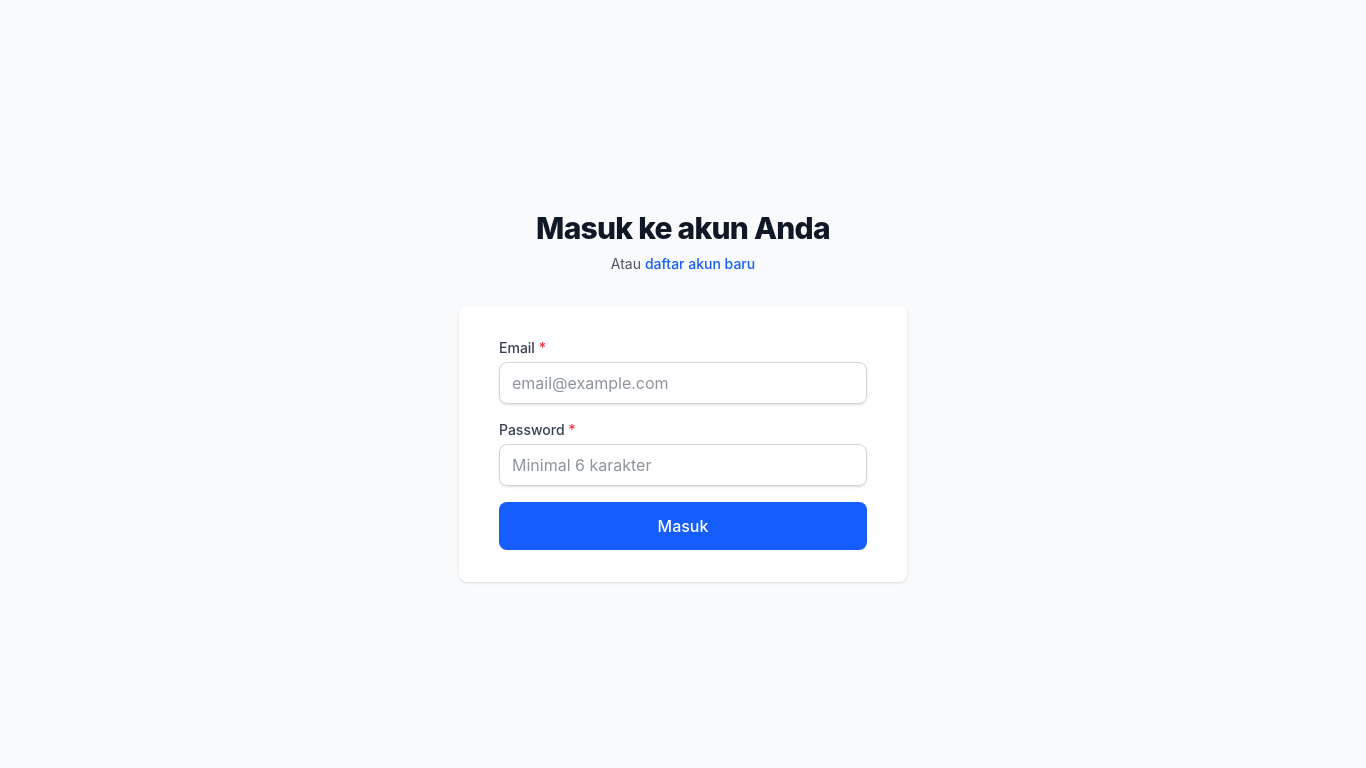
Test: Login Flow › should successfully login with valid credentials
Note: Isi form
Step 1. Type "test@test.com" into the field named "email" → (683, 383), box [499,362,867,404]
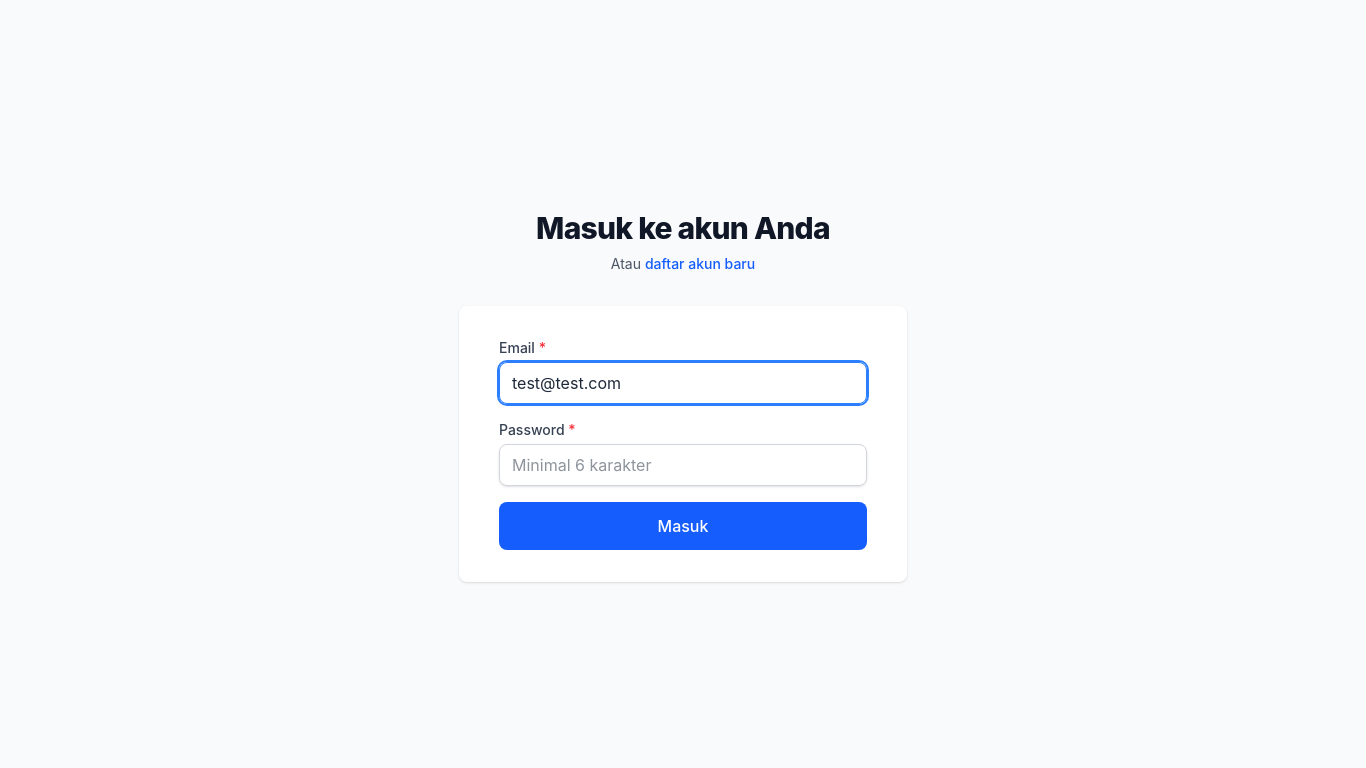
Step 2. Type "password123" into the password field named "password" → (683, 465), box [499,444,867,486]
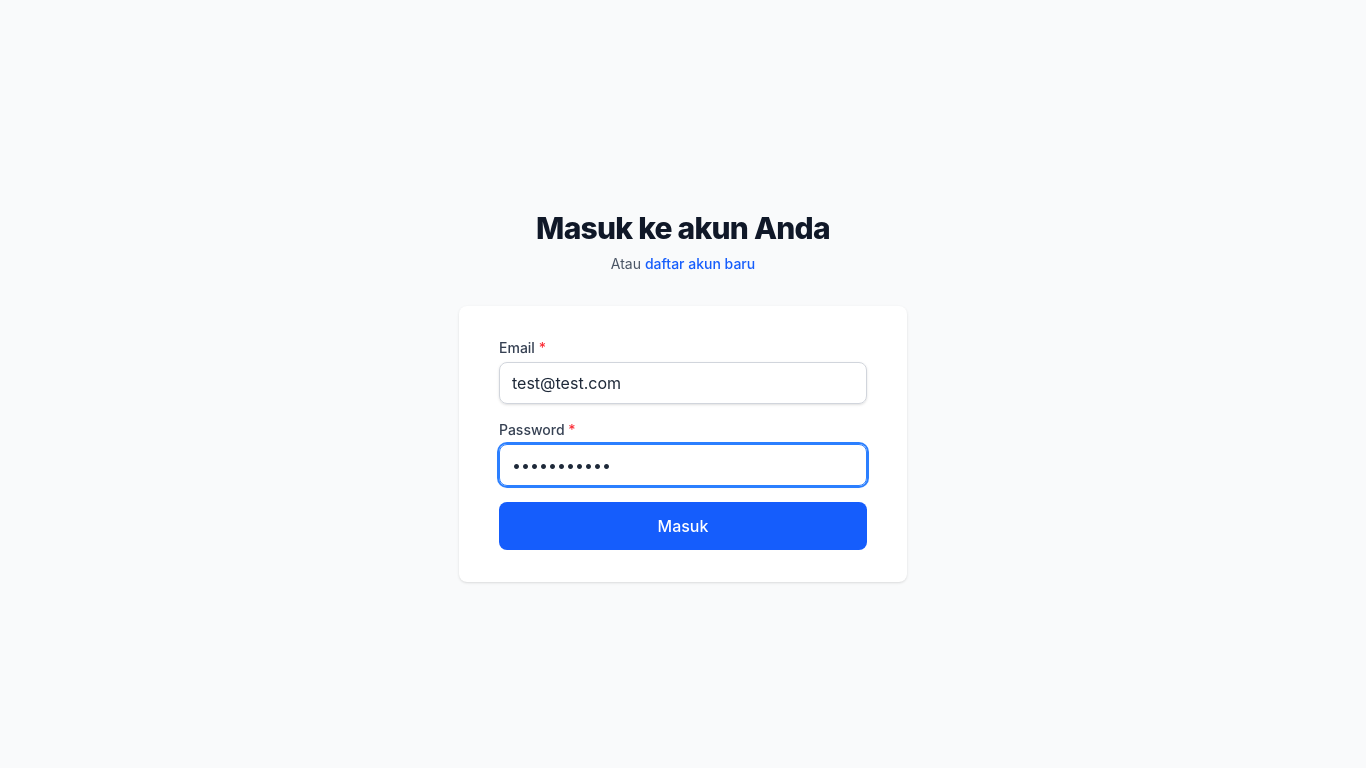
Step 3. Click the submit button → (683, 526), box [499,502,867,550]
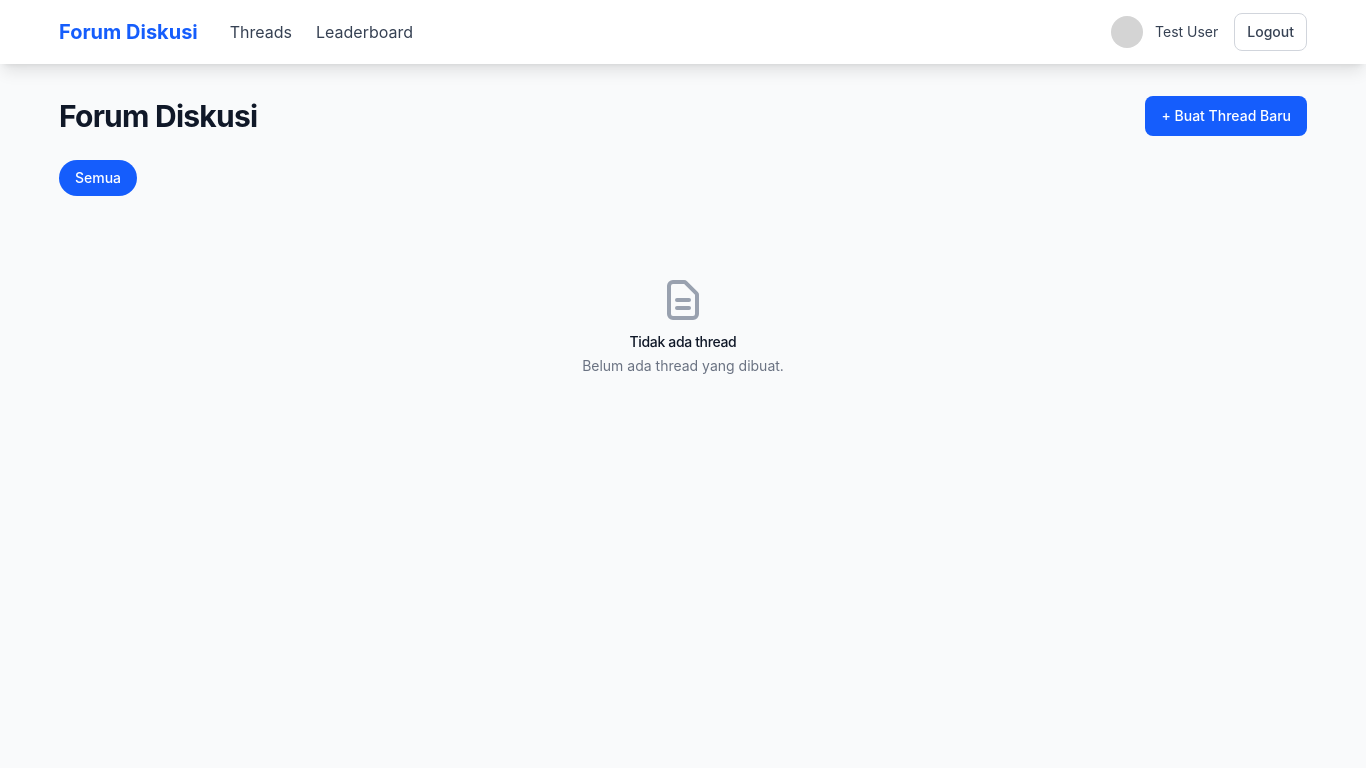
Now the text "Test User" is shown, box [1155,22,1218,42]
